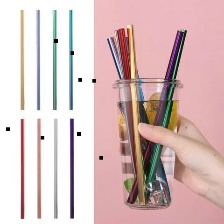drinking_straw: (64, 116, 77, 220), (17, 117, 29, 221), (16, 8, 28, 111), (33, 7, 44, 111), (65, 7, 75, 111), (34, 115, 43, 221), (50, 7, 59, 112), (51, 116, 60, 220)
glass: (108, 74, 186, 212)
